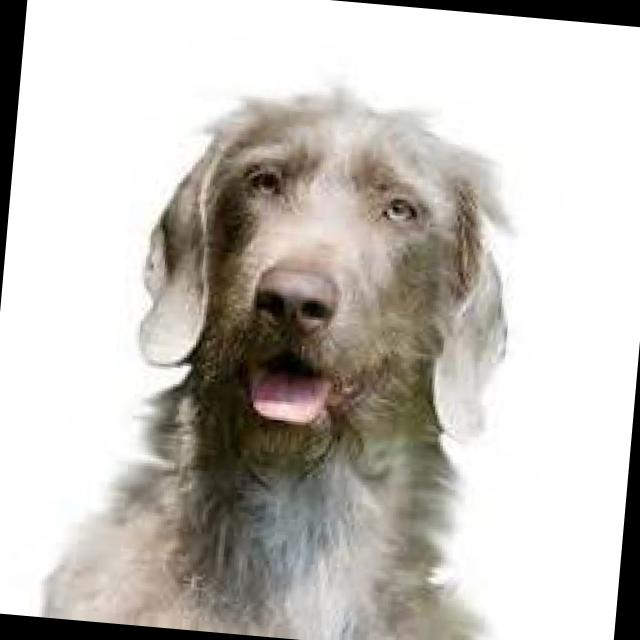animal: (42, 69, 535, 640)
